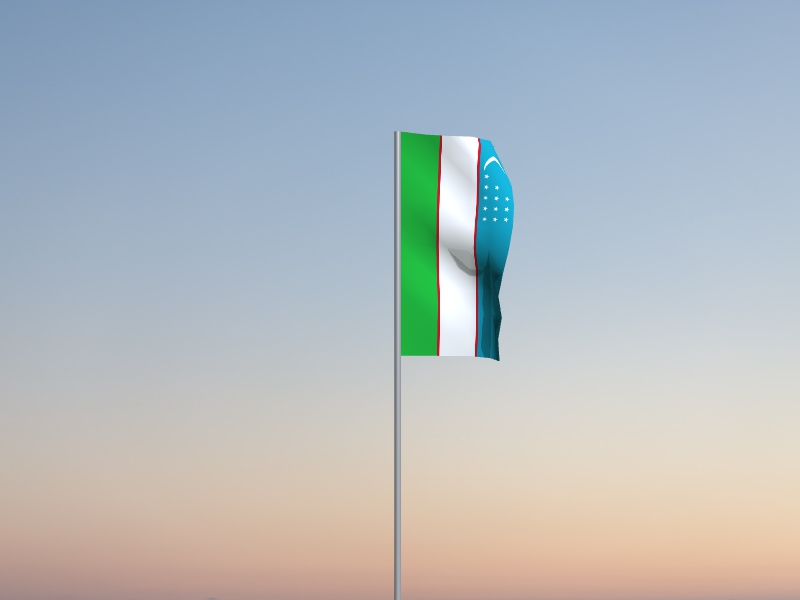uz: (401, 132, 515, 363)
